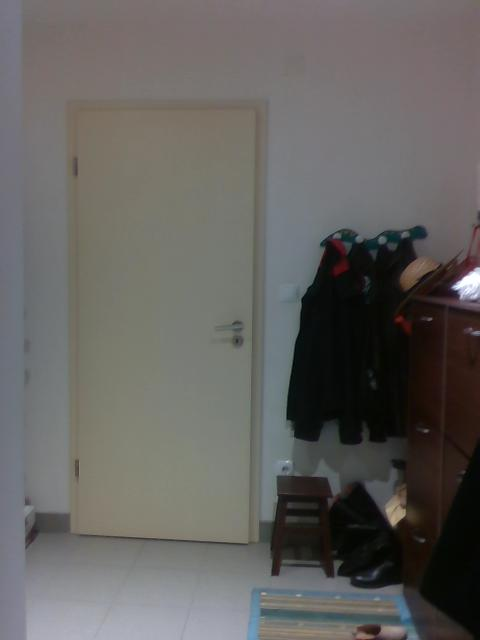door: (75, 102, 257, 547)
